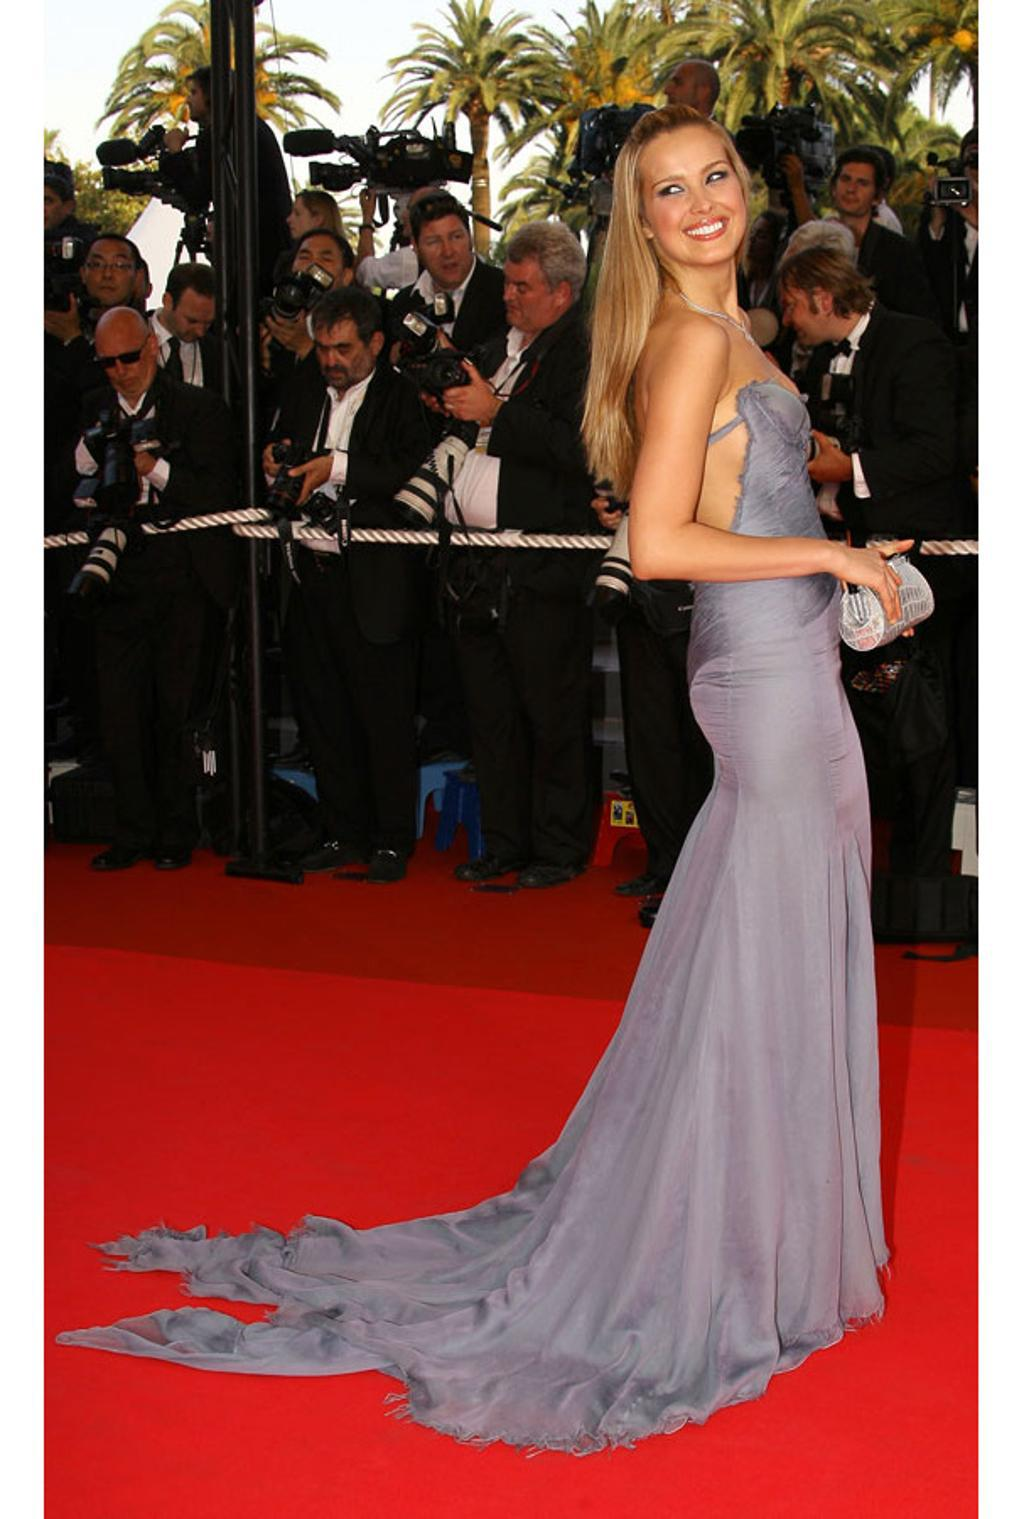face: (642, 139, 747, 266), (314, 326, 369, 389), (419, 224, 472, 284), (96, 341, 147, 395), (292, 242, 342, 299), (86, 249, 134, 306), (504, 266, 550, 326), (779, 286, 822, 348), (174, 294, 215, 344), (837, 167, 877, 214), (664, 70, 695, 115), (116, 274, 146, 314), (744, 220, 772, 257), (402, 195, 426, 237), (287, 203, 313, 240), (45, 187, 64, 231), (187, 85, 206, 122), (964, 147, 979, 189), (206, 226, 222, 260)
